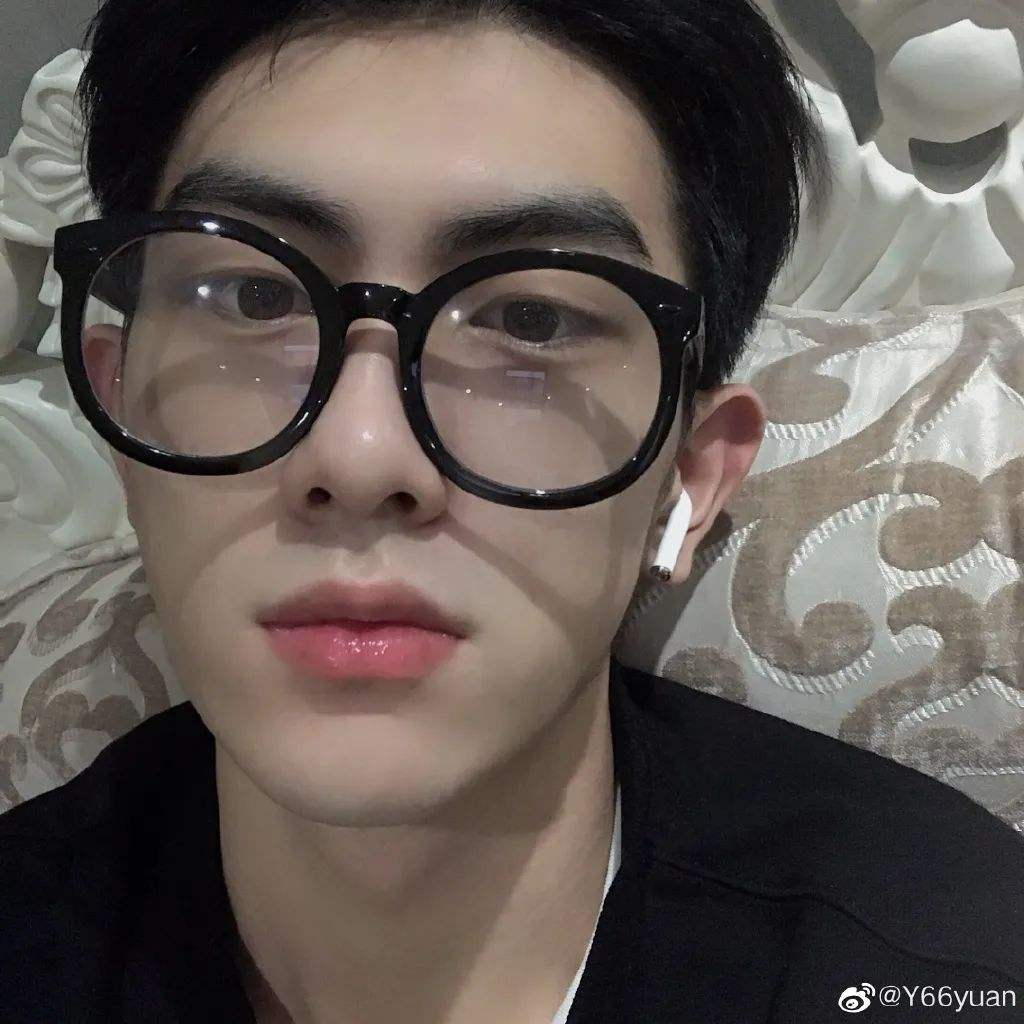person: (43, 23, 772, 873)
